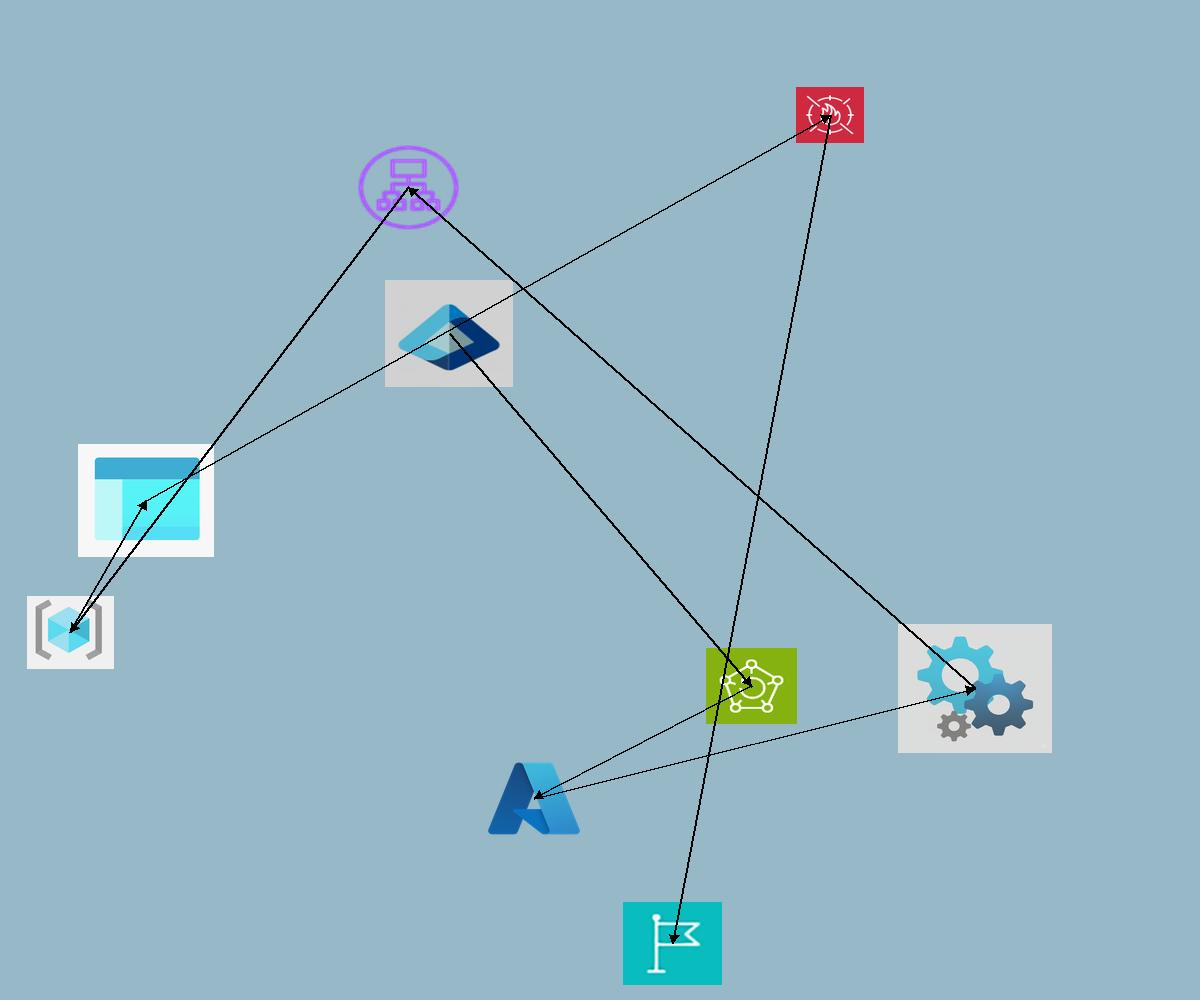AWS-Backup: (706, 648, 797, 724)
AWS-Region: (623, 902, 722, 985)
AWS-Res_Elastic-Load-Balancing_Application-Load-Balancer: (354, 142, 463, 233)
AWS-WAF: (796, 87, 864, 143)
Azure_api: (898, 624, 1052, 753)
Azure_management-portal: (78, 444, 214, 557)
Azure_microsoft_entra: (385, 280, 513, 387)
Azure_resource_group: (27, 596, 114, 669)
Azure_services: (484, 757, 584, 840)
